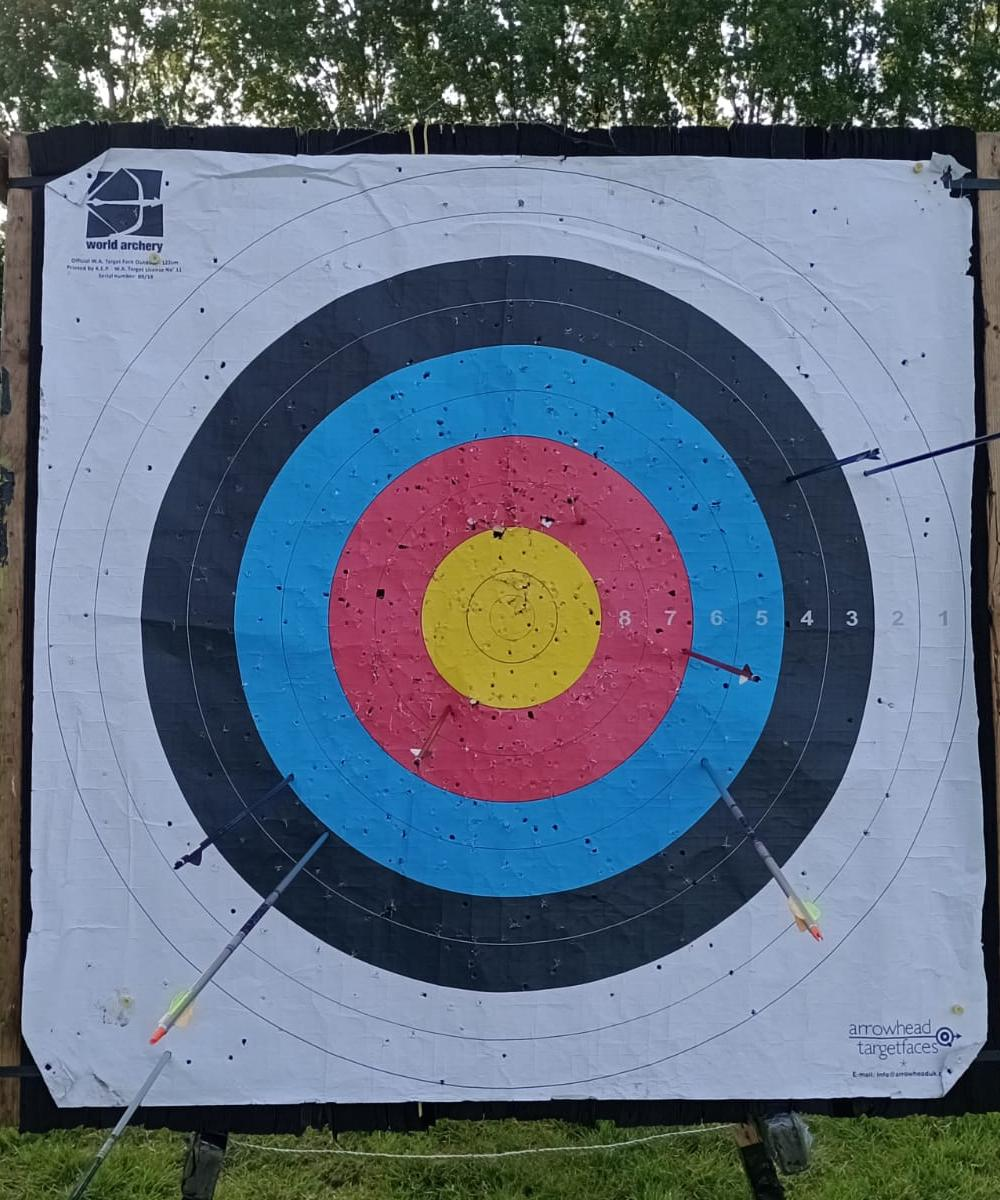1-Ring: (38, 158, 976, 1098)
10-Ring: (464, 570, 561, 668)
2-Ring: (83, 203, 929, 1048)
3-Ring: (143, 254, 873, 991)
4-Ring: (189, 303, 826, 946)
5-Ring: (233, 346, 784, 899)
6-Ring: (196, 308, 822, 935)
7-Ring: (324, 430, 698, 809)
8-Ring: (319, 429, 703, 812)
9-Ring: (421, 528, 601, 709)
Arrow: (142, 815, 330, 1054), (697, 752, 833, 947), (67, 1052, 171, 1200), (167, 760, 293, 879), (783, 439, 882, 482), (680, 649, 765, 690), (406, 701, 451, 770)
